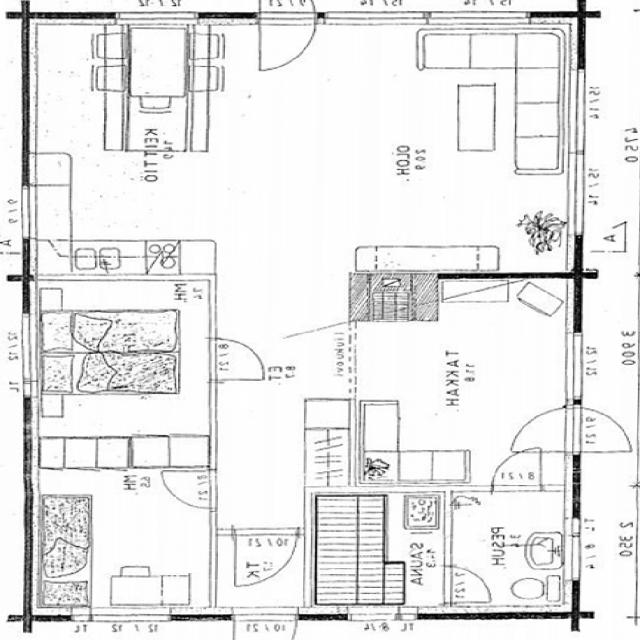door: (236, 527, 296, 582), (568, 408, 640, 451), (512, 408, 584, 451), (260, 12, 314, 68), (211, 338, 269, 380), (493, 447, 540, 492), (164, 470, 217, 508), (445, 567, 497, 603), (260, 0, 315, 24)
